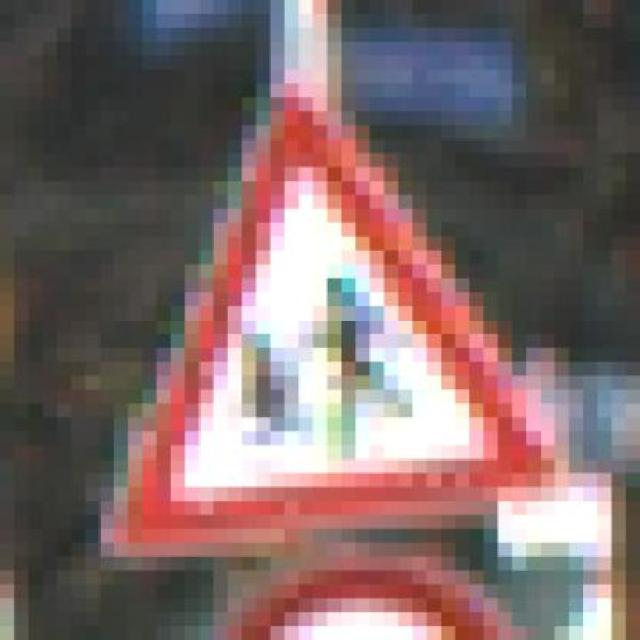Beware of children: (85, 69, 569, 543)
